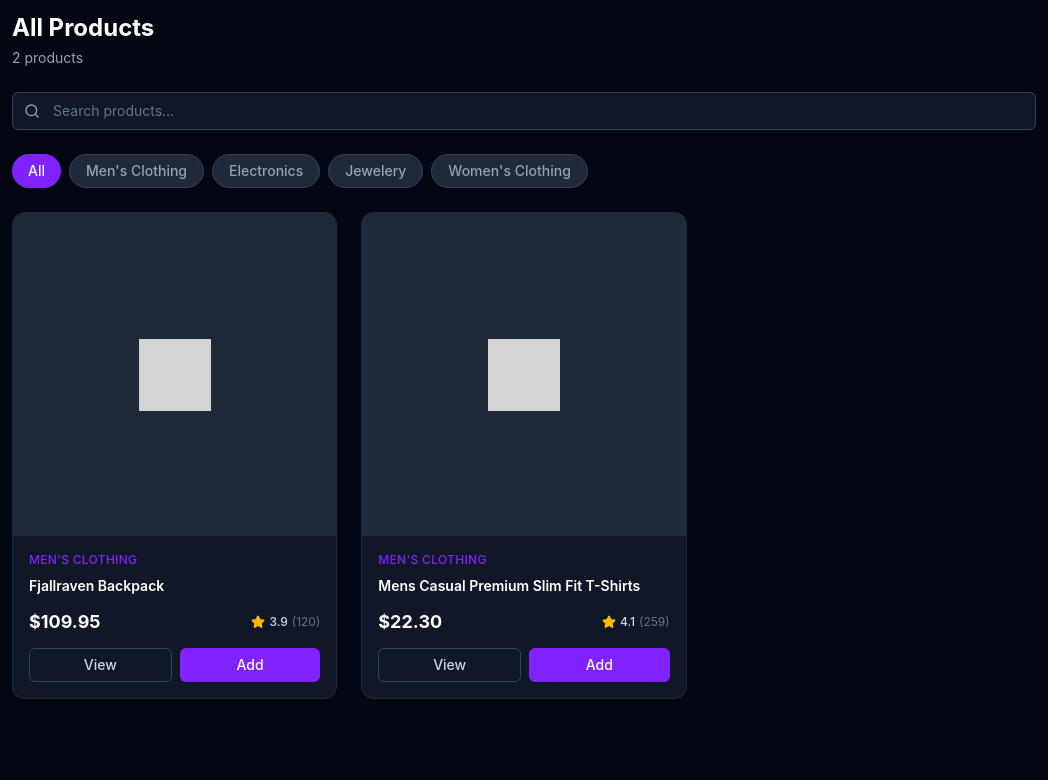
Test: ProductsPage › shows no products found with a clear filters button when search matches nothing
This screenshot has width=1048, height=780.
Check: the heading "Fjallraven Backpack" is shown, box 29,577 -> 164,594
Type "xyznonexistent" into the search field with placeholder "Search products…" at (524, 111), box 12,92 -> 1036,130
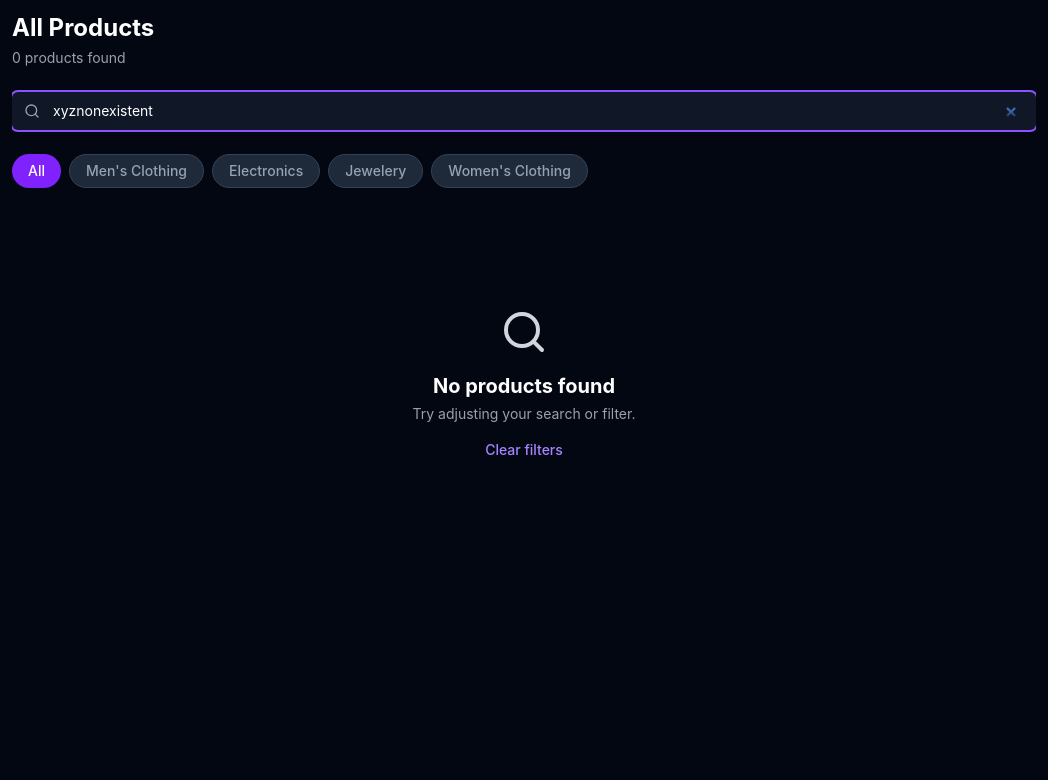
Check: the heading "No products found" is shown, box 433,372 -> 615,400
Check: the button "Clear filters" is shown, box 485,440 -> 563,460
